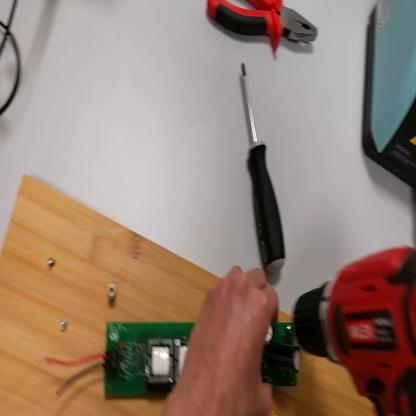electric screwdriver: (287, 242, 416, 416)
hand: (159, 266, 280, 412)
high voltage board: (32, 319, 298, 400)
pliers: (207, 3, 323, 55)
screwdriver-: (239, 64, 290, 276)
welder station: (366, 1, 416, 187)
working area: (1, 176, 369, 416)
